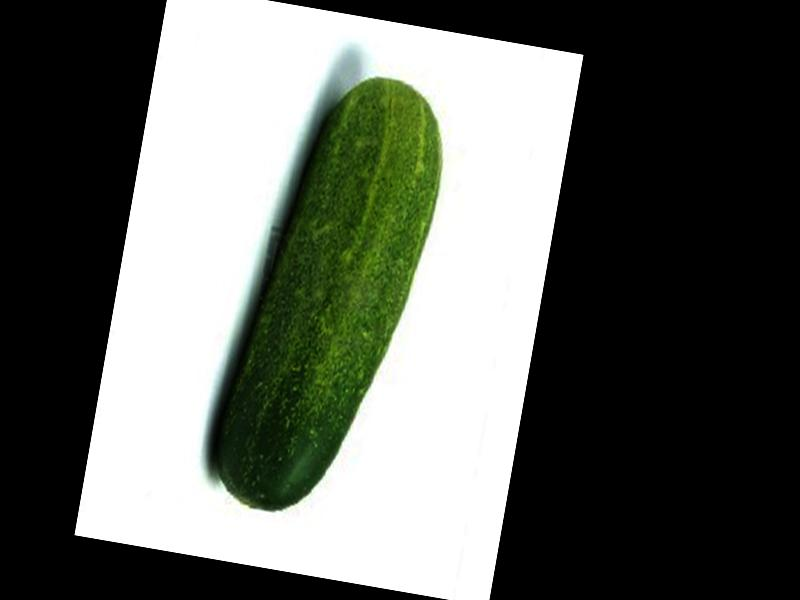Cucumber: (206, 60, 455, 528)
